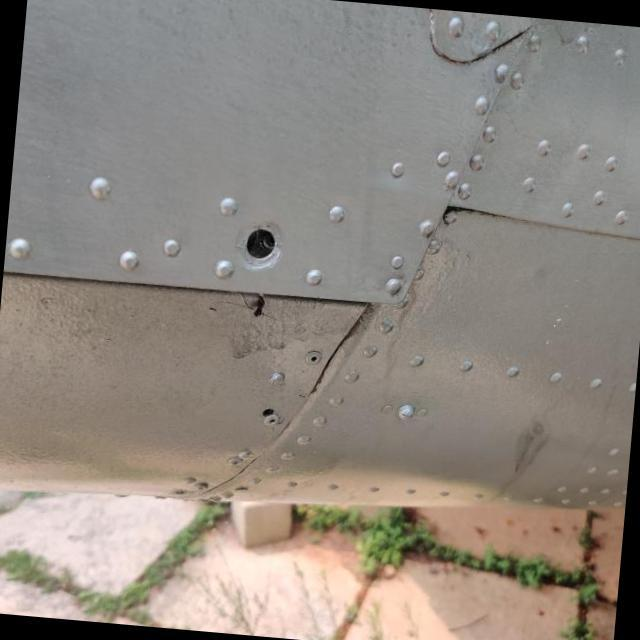Fastener Damage: (188, 178, 320, 312)
